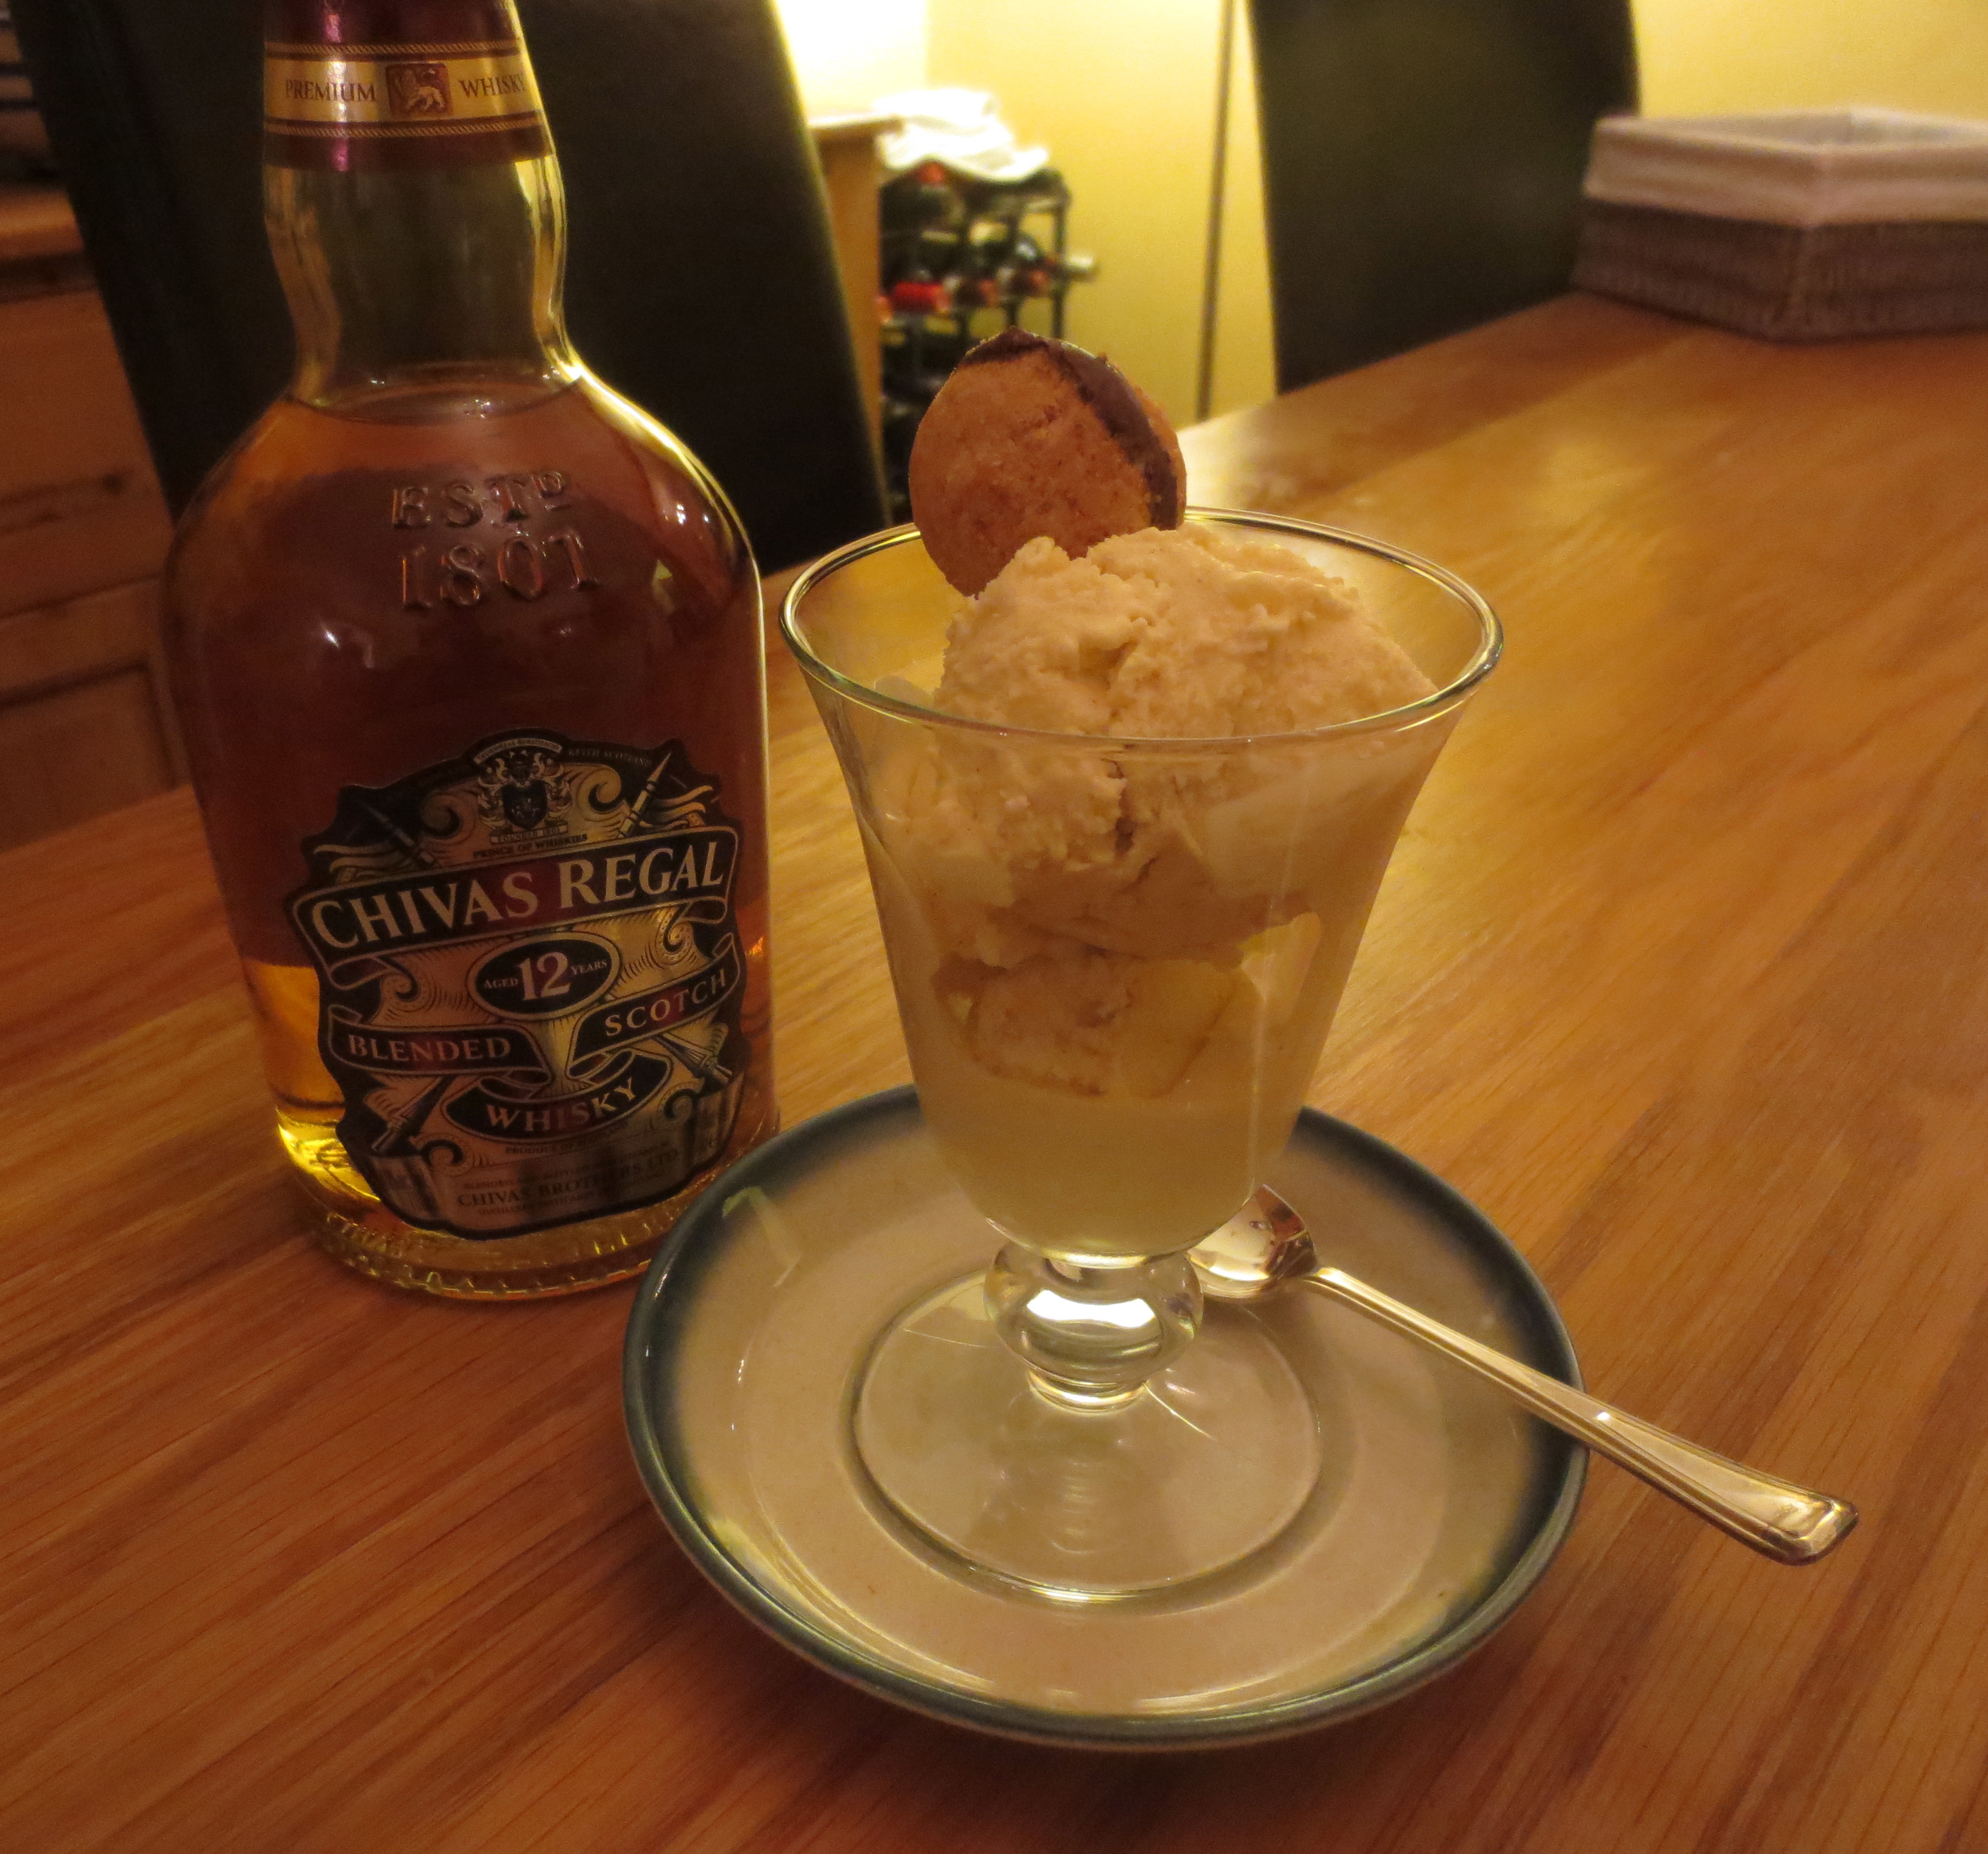Chivas Regal: (141, 2, 791, 1324)
